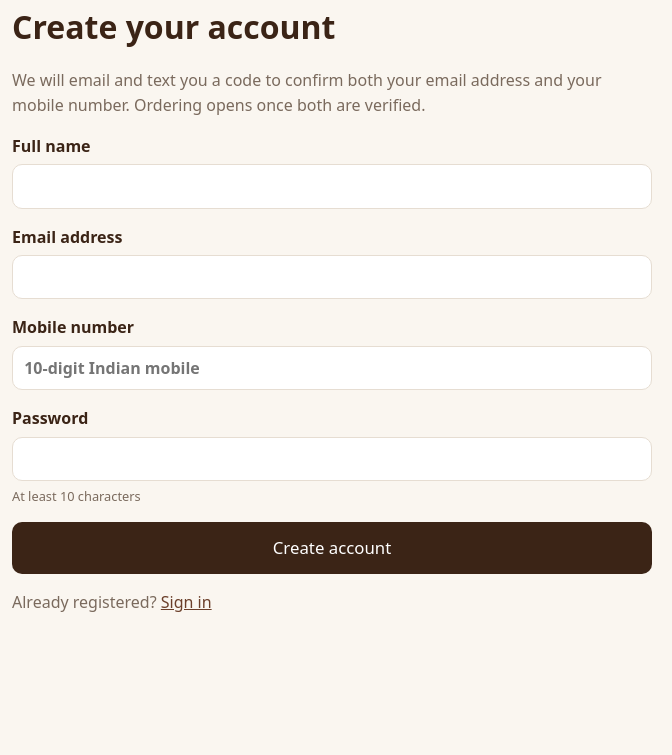
Test: RegisterPage › shows the server validation message when registration is refused
Type "Asha Rao" into the field labelled "Full name" at (332,186), box x1=12 y1=164 x2=652 y2=209
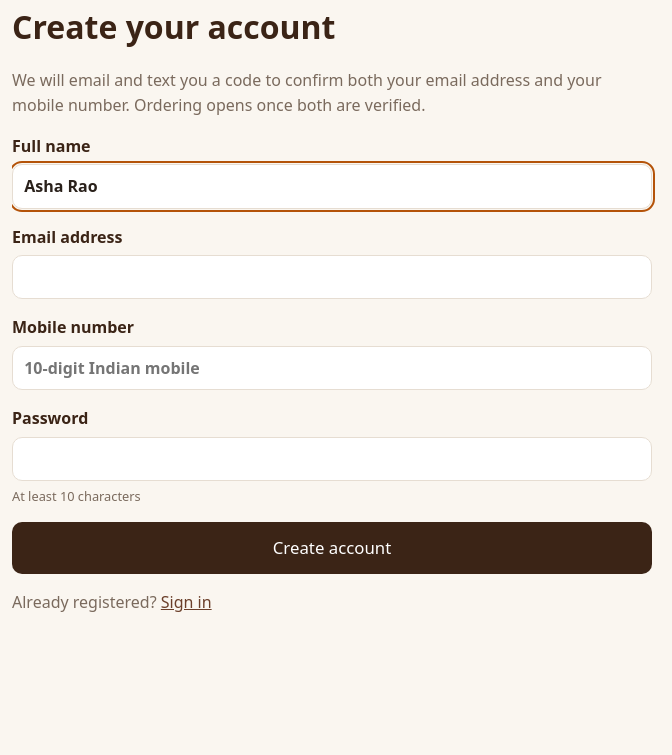
Type "asha@example.com" into the field labelled "Email address" at (332,277), box x1=12 y1=255 x2=652 y2=299
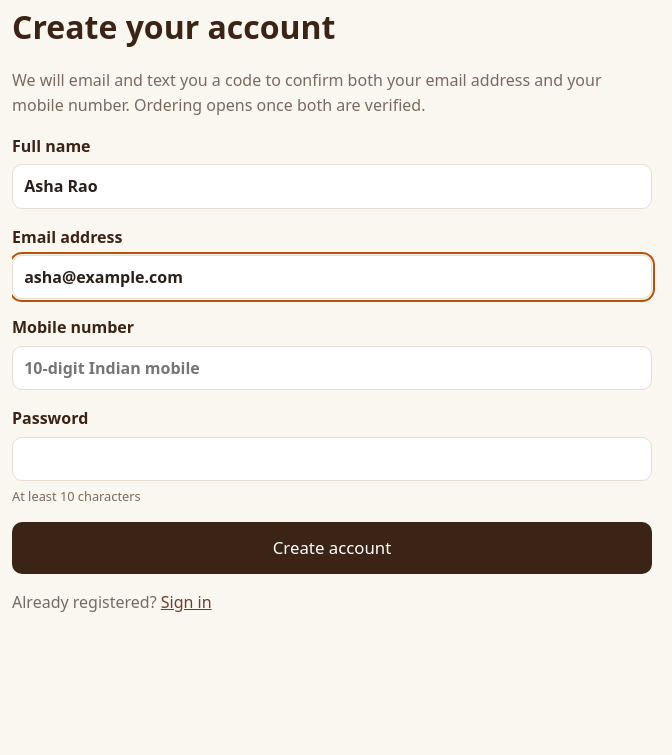
Type "9876543210" into the field labelled "Mobile number" at (332,368), box x1=12 y1=346 x2=652 y2=390
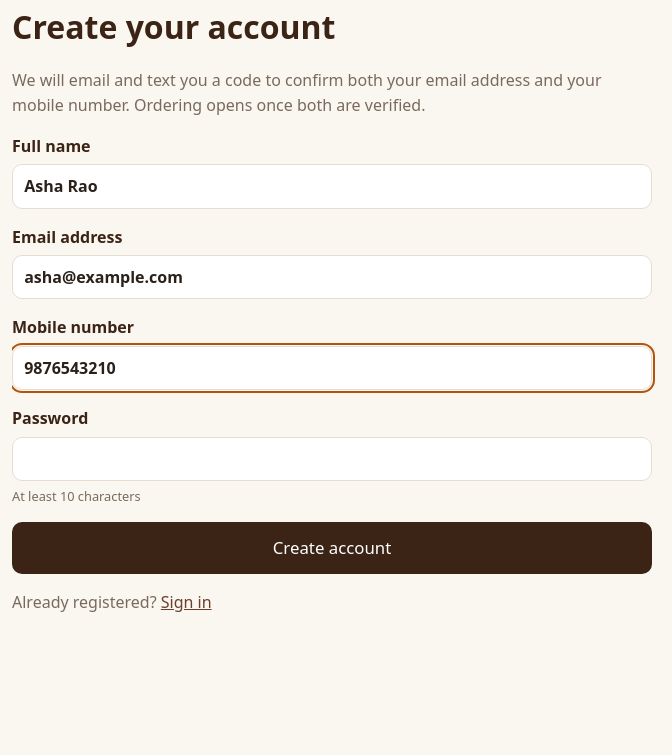
Type "supersecret1" into the password field labelled "Password At least 10 characters" at (332,459), box x1=12 y1=437 x2=652 y2=481
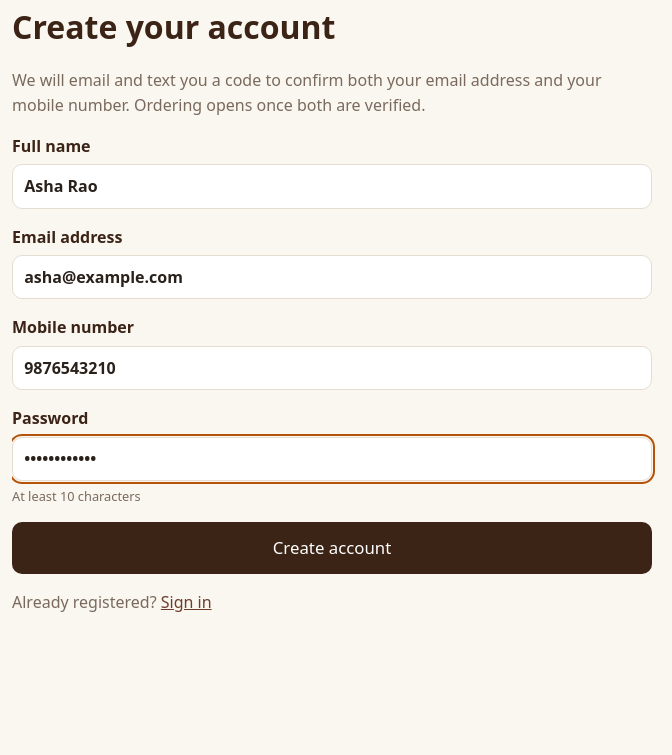
Click the button "Create account" at (332,548), box x1=12 y1=522 x2=652 y2=574
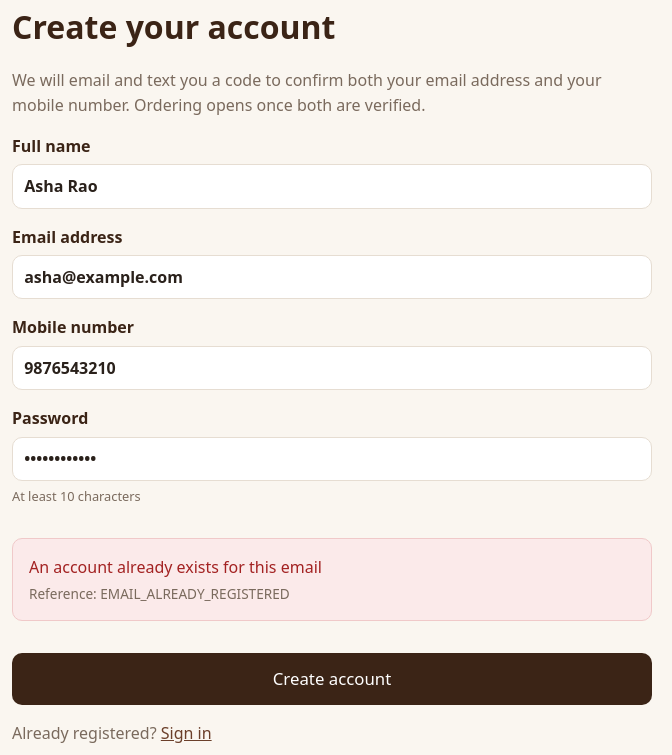
Check: the text "An account already exists for this email" is shown, box x1=29 y1=556 x2=322 y2=578
